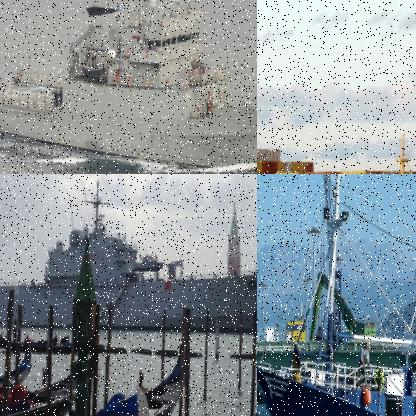Fishing Boat: (257, 174, 415, 415), (0, 337, 186, 415), (135, 333, 256, 415), (0, 346, 97, 415), (0, 307, 75, 354), (0, 332, 35, 415)
Merchant Ship: (257, 87, 415, 173)
Military Ship: (0, 0, 256, 170), (0, 176, 256, 332)
